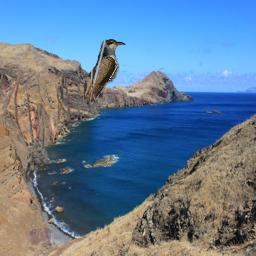Cuckoo: (83, 39, 136, 105)
